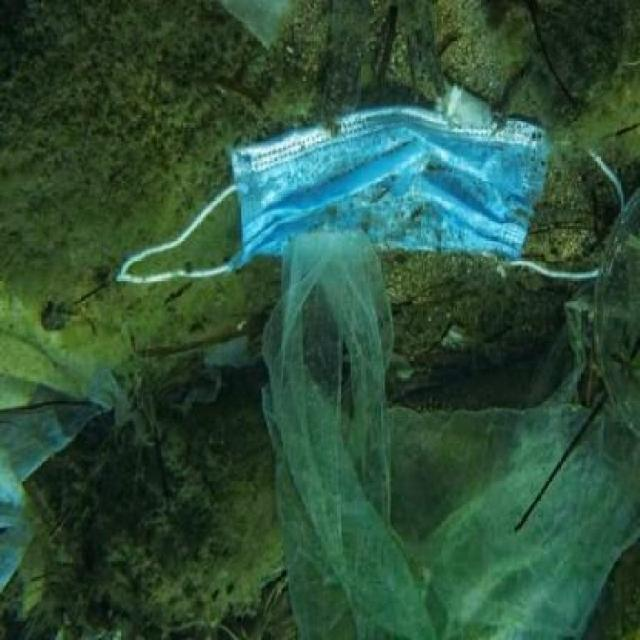Mask: (117, 98, 628, 294)
